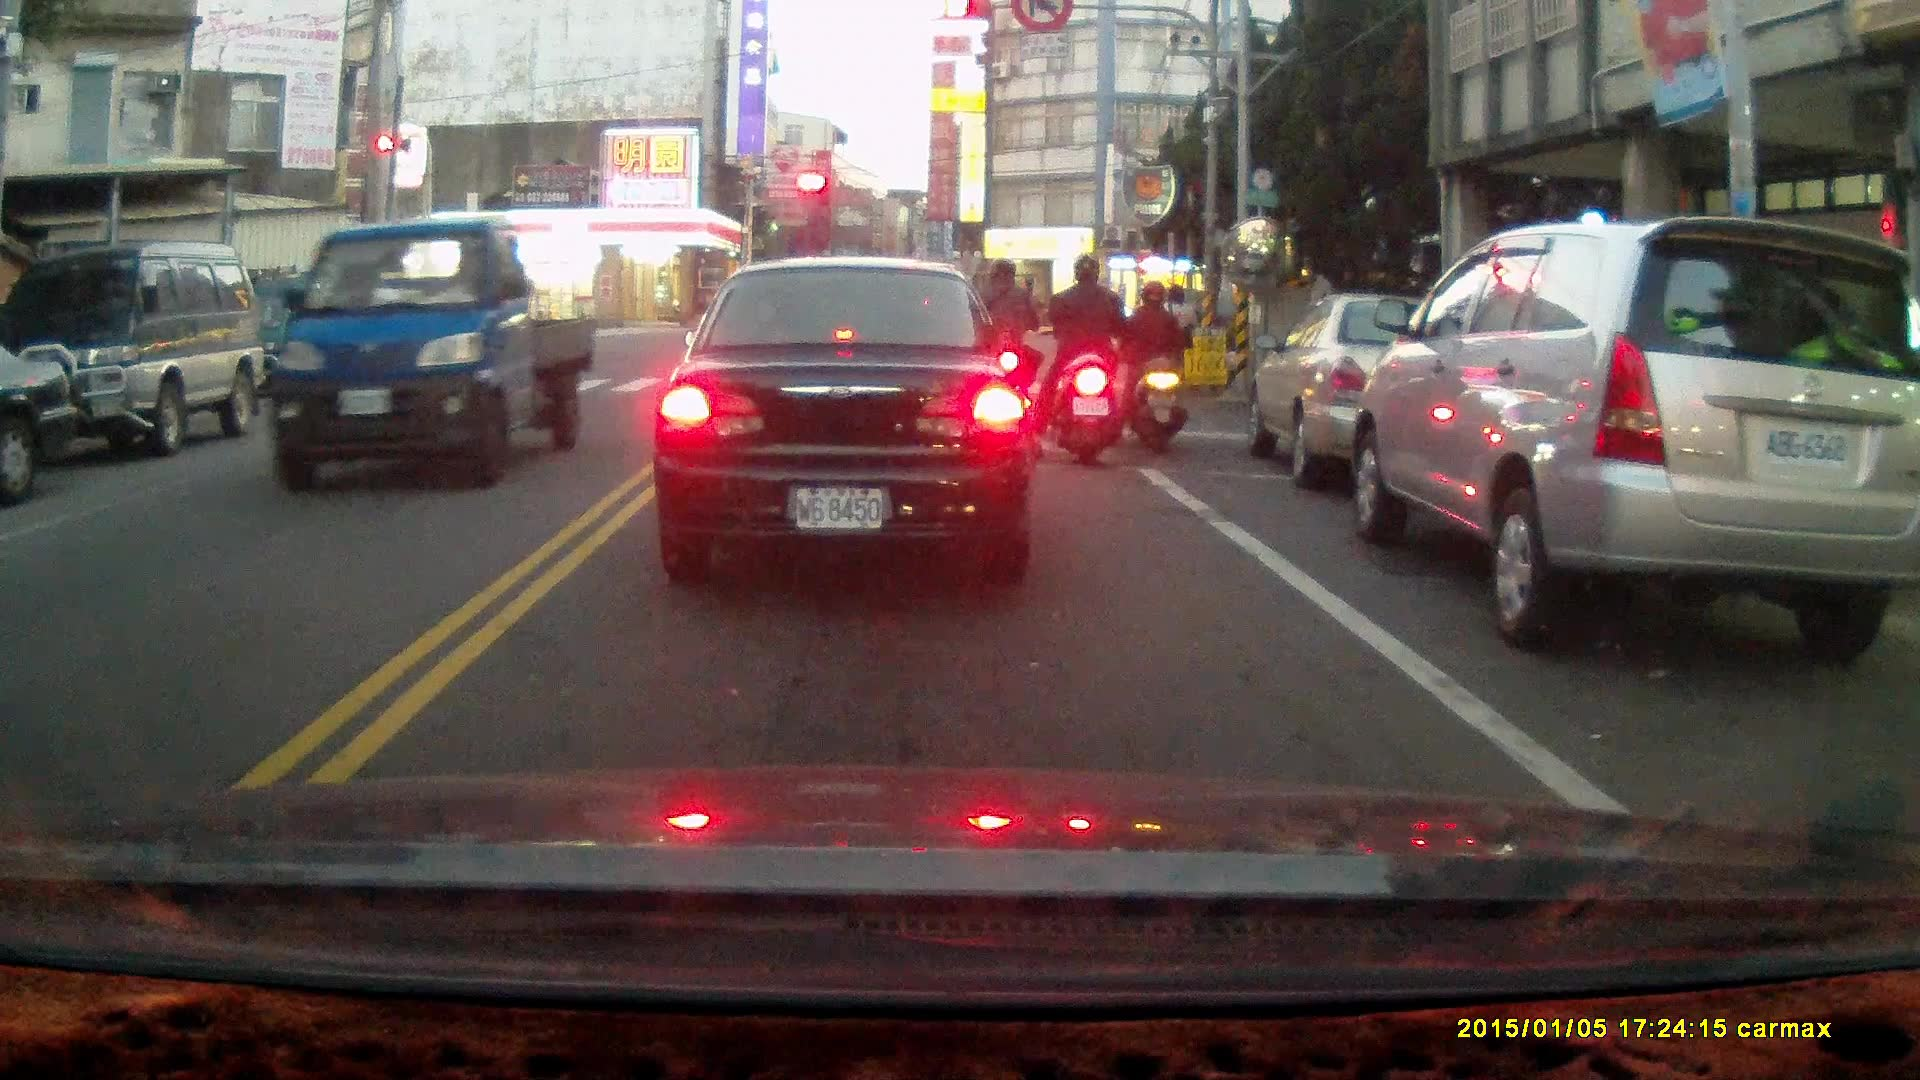pedestrian: (1156, 281, 1200, 402)
rider: (1034, 254, 1135, 464), (965, 258, 1043, 435), (1120, 278, 1188, 450)
vehicle: (1348, 218, 1920, 653), (652, 252, 1040, 584), (266, 216, 597, 490), (6, 236, 275, 457), (1250, 290, 1531, 494), (1, 323, 85, 502)
